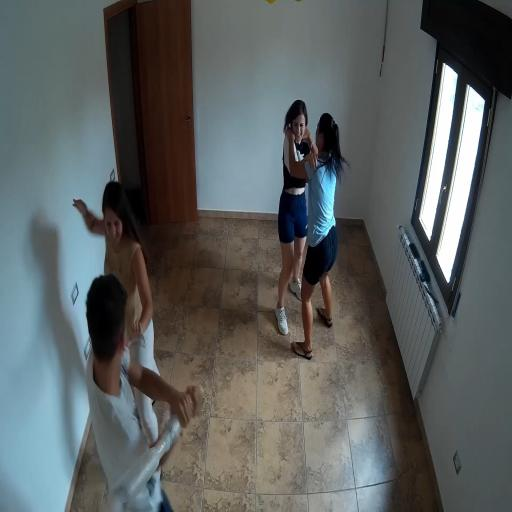violencia: (42, 165, 212, 512), (264, 91, 354, 368)
